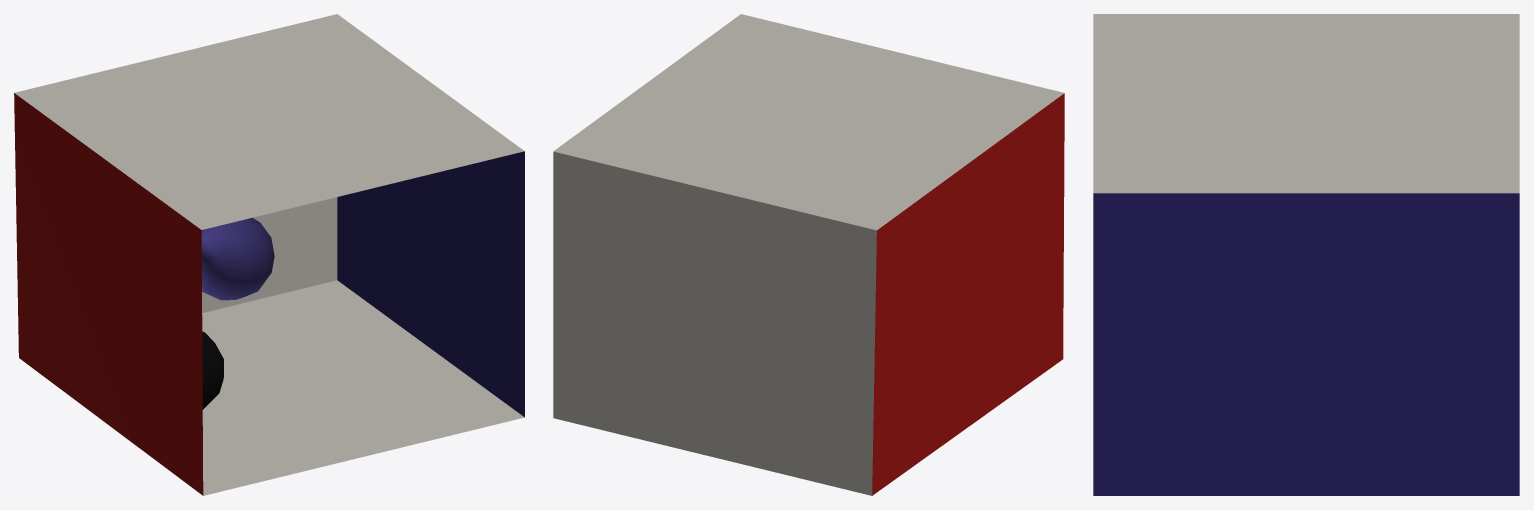
File: CornellBox-Sphere-1017.obj
3 views of the same model, side by side, from view 1: azimuth 30°, elevation 25°; view 2: azimuth 150°, elevation 25°; view 3: azimuth 270°, elevation 25° (orthographic). The views are drawn at different scales.
Parts seen in each view (by area): view 1: ceiling, leftWall, floor, rightWall, backWall, leftSphere, rightSphere; view 2: backWall, ceiling, leftWall; view 3: rightWall, ceiling.
Boxes of the visible parts, <box> form: ceiling: <box>14,14,524,229</box>; leftWall: <box>14,93,203,495</box>; floor: <box>202,280,524,495</box>; rightWall: <box>337,151,524,417</box>; backWall: <box>202,197,337,312</box>; leftSphere: <box>201,217,274,300</box>; rightSphere: <box>202,331,223,409</box>; backWall: <box>553,151,876,495</box>; ceiling: <box>553,14,1064,230</box>; leftWall: <box>872,93,1064,495</box>; rightWall: <box>1093,193,1519,495</box>; ceiling: <box>1093,14,1519,193</box>.
Bounding box in the file's own units: 2.02 × 1.59 × 2.03.
